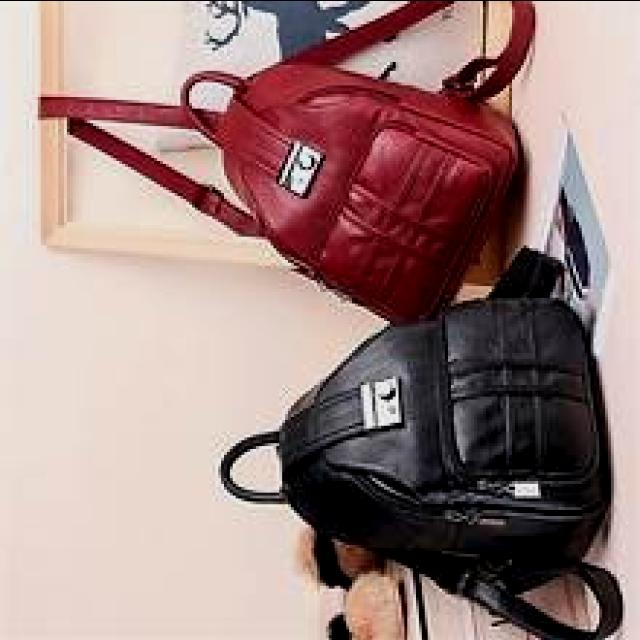backpack: (36, 4, 536, 330), (216, 249, 624, 640)
